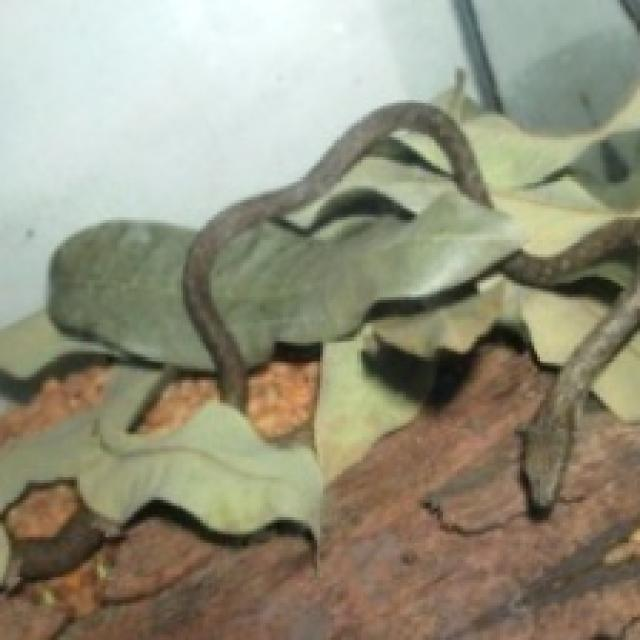philippine whip snake: (183, 100, 491, 409), (477, 217, 637, 514), (11, 508, 104, 589)
